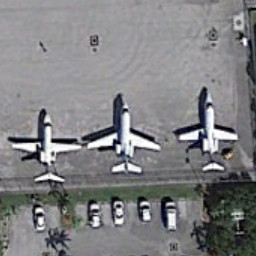Airplane: (85, 88, 166, 180), (172, 86, 245, 180), (7, 106, 85, 187)
